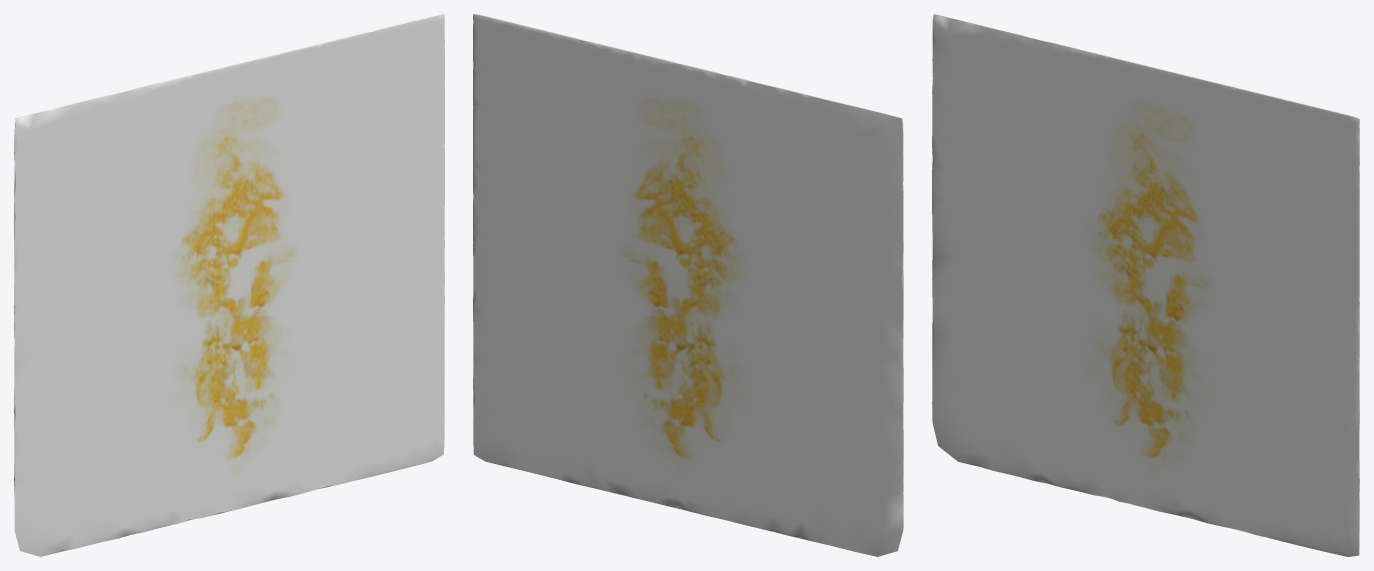
File: star.glb
The picture shows the model from 3 angles, left to right: view 1: azimuth 30°, elevation 25°; view 2: azimuth 150°, elevation 25°; view 3: azimuth 330°, elevation 25°; orthographic projection.
Parts seen in each view (by area): view 1: world; view 2: world; view 3: world.
Part boxes in pixels (x1,y1,x2,y2): world: (14, 14, 444, 556); world: (473, 14, 903, 556); world: (932, 14, 1359, 556).
Bounding box in the file's own units: 0.05 × 0.0495 × 0.000199.
1 material, 1 textured.
